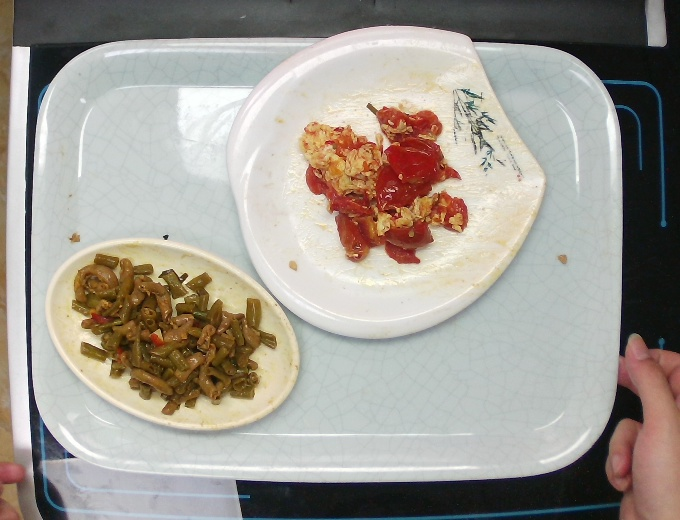JYsf-Mian_Pan: (225, 23, 552, 349)
JYsf-Tuo_Yuan_Wan: (43, 233, 305, 435)
